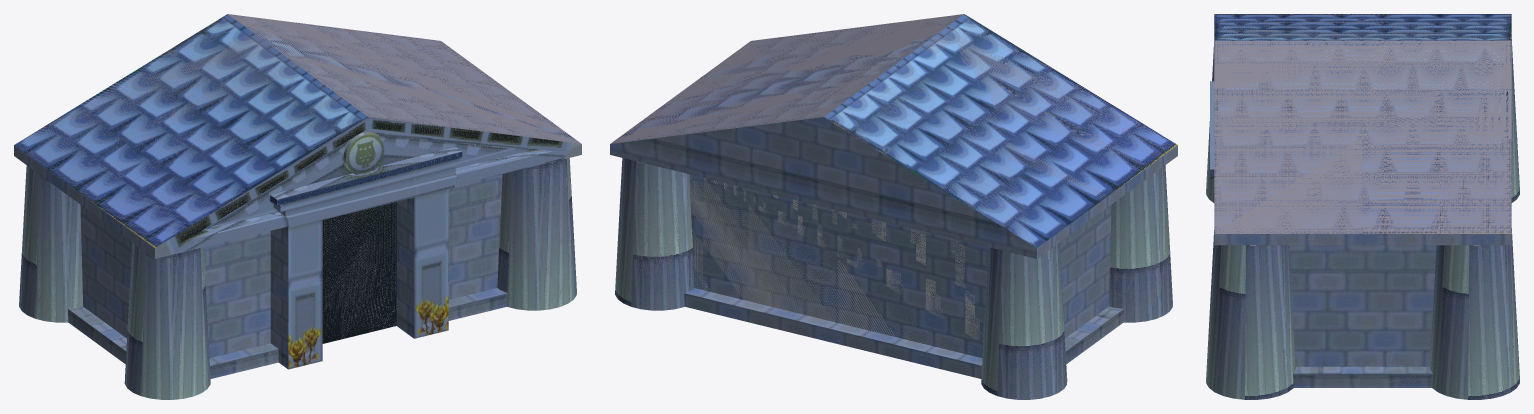
3 views of the same model, side by side, from view 1: azimuth 30°, elevation 25°; view 2: azimuth 150°, elevation 25°; view 3: azimuth 270°, elevation 25° (orthographic). The views are drawn at different scales.
Parts seen in each view (by area): view 1: SketchUp (×9); view 2: SketchUp (×5); view 3: SketchUp (×7).
Boxes of the visible parts, bbox=[...] form: SketchUp (×9): bbox=[14, 14, 581, 399]; SketchUp (×5): bbox=[610, 14, 1177, 399]; SketchUp (×7): bbox=[1206, 14, 1519, 399].
Bounding box in the file's own units: 223 × 130 × 113.
Materials: 10 (8 with a texture image).
